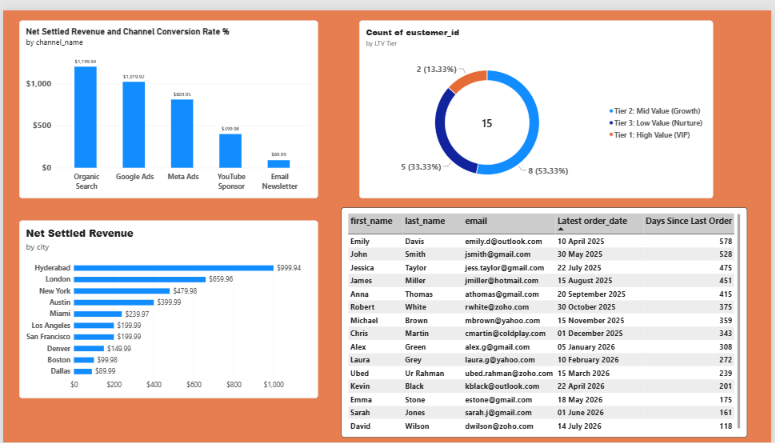

What the dashboard file says about the page in this screenshot:
{"tool":"powerbi","page":{"name":"Marketing ROI & Customer Retention","canvas":[1920,1080],"ordinal":1},"visuals":[{"type":"clusteredColumnChart","fields":{"Category":["marketing_channels.channel_name"],"Y":["_measures.Net Settled Revenue"]},"box":[38.9,24.6,747.2,444.6],"z":0},{"type":"donutChart","fields":{"Category":["customers.LTV Tier"],"Y":["CountNonNull(customers.customer_id)"]},"box":[890.6,24.6,885.1,444.6],"z":1},{"type":"clusteredBarChart","fields":{"Category":["customers.city"],"Y":["_measures.Net Settled Revenue"]},"box":[39.1,524.9,747,445],"z":2},{"type":"tableEx","fields":{"Values":["customers.first_name","customers.last_name","customers.email","orders.order_date","_measures.Days Since Last Order"]},"box":[845.6,491.4,1015.5,575.3],"z":3}]}

Visuals, with their boxes in screenshot pixels (x1, y1, x2, y2), scaled from the page's 1920x1080 canvas onto the 775x443 screenshot:
clusteredColumnChart - marketing_channels.channel_name x _measures.Net Settled Revenue: rect(16, 10, 317, 192)
donutChart - customers.LTV Tier x CountNonNull(customers.customer_id): rect(359, 10, 717, 192)
clusteredBarChart - customers.city x _measures.Net Settled Revenue: rect(16, 215, 317, 398)
tableEx - customers.first_name x customers.last_name: rect(341, 202, 751, 438)
